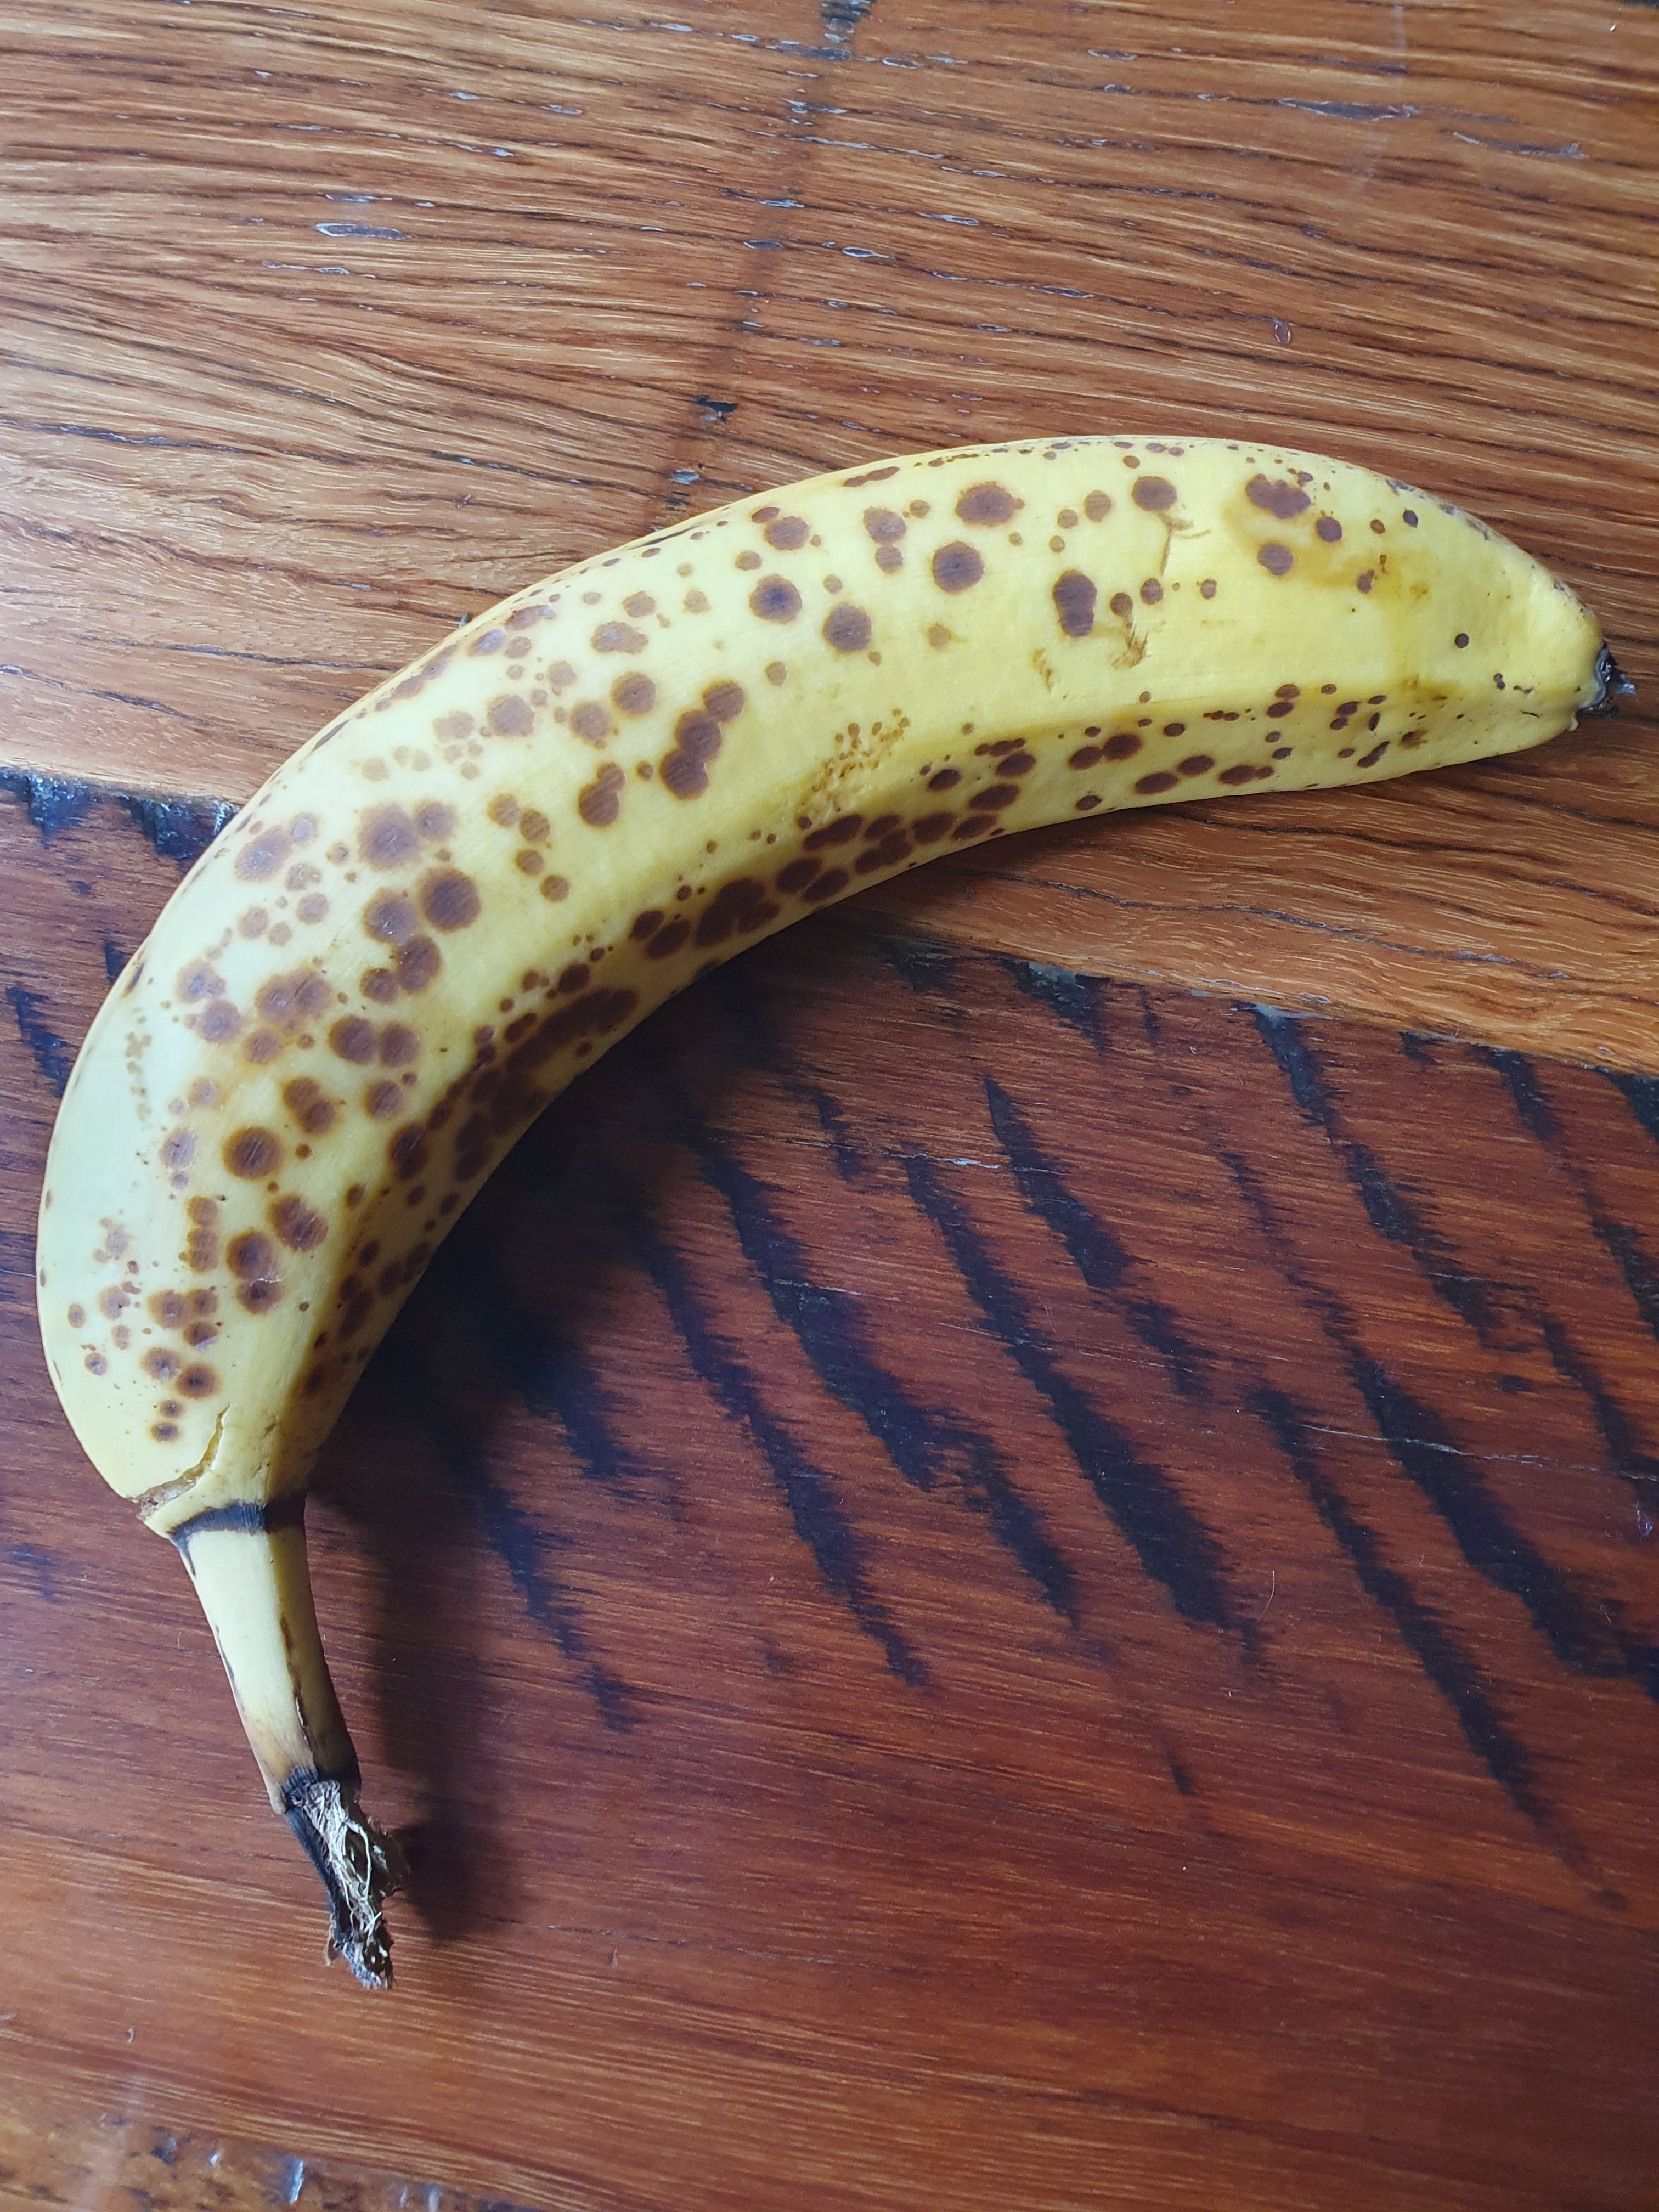banana: (17, 277, 1654, 2006)
